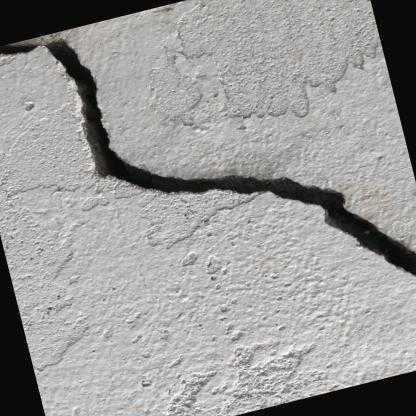crack: (0, 35, 416, 276)
